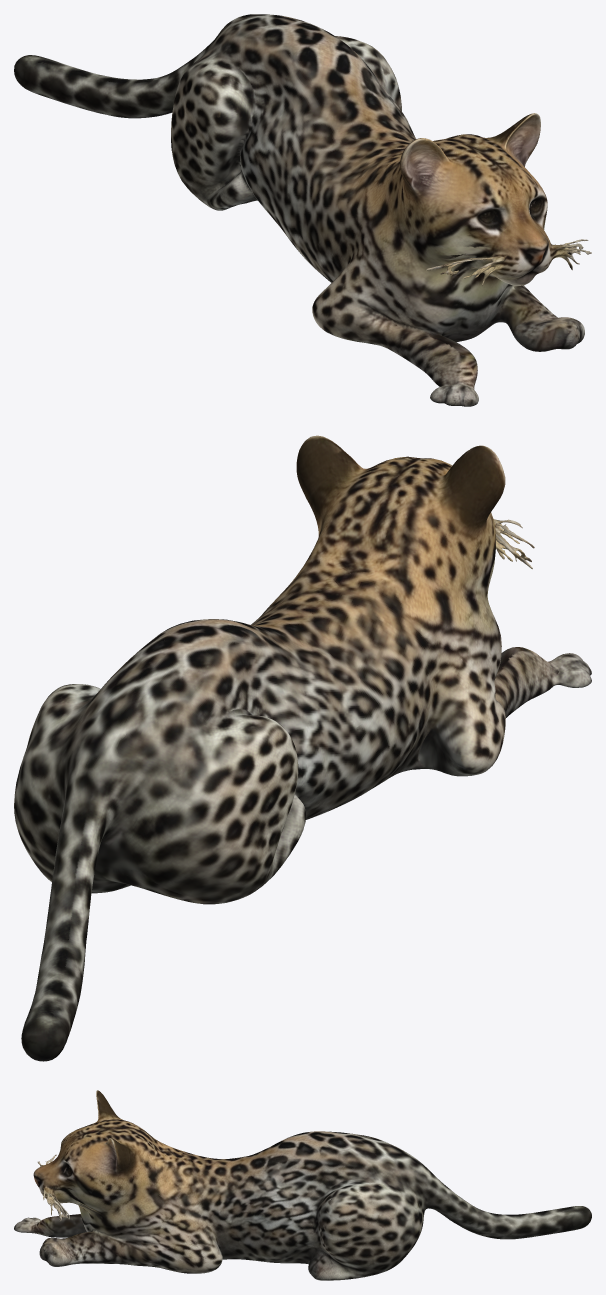
Rendered from Jaguatirica.glb.
3 views of the same model, one above another, from view 1: azimuth 30°, elevation 25°; view 2: azimuth 150°, elevation 25°; view 3: azimuth 270°, elevation 25° (orthographic). The views are drawn at different scales.
Size of the model in its own units: 0.5356 by 0.5155 by 1.9.
Materials: 1 (1 with a texture image).
